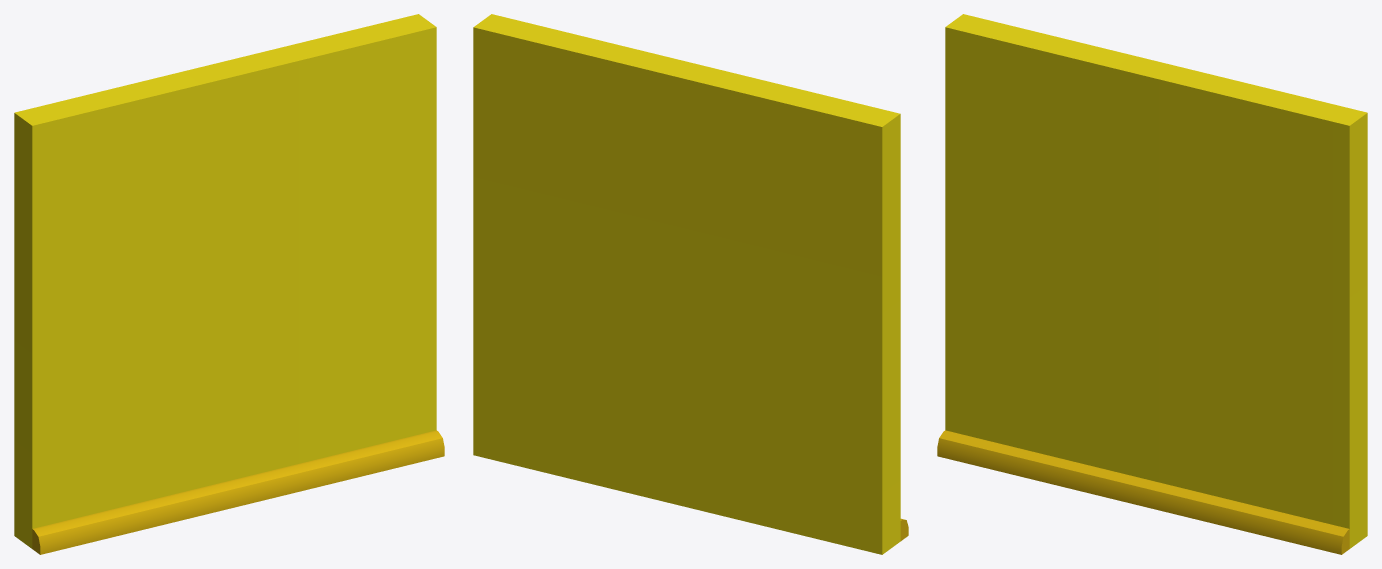
The model's file is Y_Wall005.fbx.
3 renders of one model, left to right at view 1: azimuth 30°, elevation 25°; view 2: azimuth 150°, elevation 25°; view 3: azimuth 330°, elevation 25°, orthographic.
Parts seen in each view (by area): view 1: Wall005.004; view 2: Wall005.004; view 3: Wall005.004.
Boxes of the visible parts, box(x1,y1,x2,y2) form: Wall005.004: box(14, 14, 444, 554); Wall005.004: box(473, 14, 908, 554); Wall005.004: box(937, 14, 1367, 554).
Bounding box in the file's own units: 250 × 250 × 27.87.
1 material, 1 textured.
